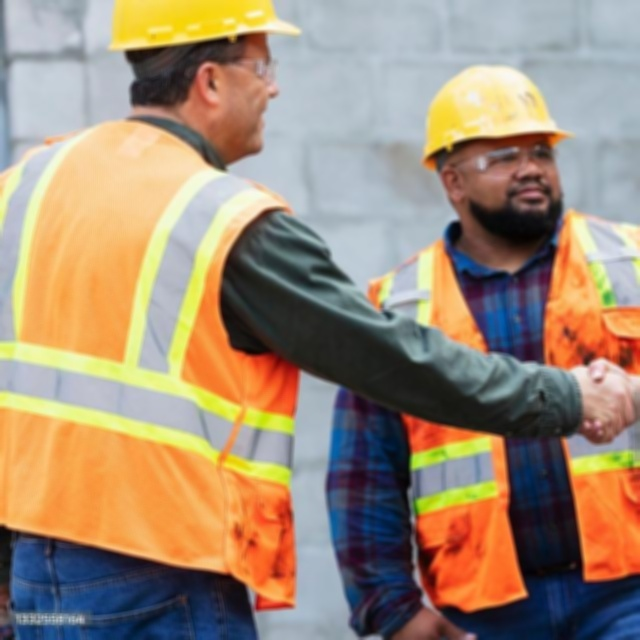Con_Casco: (423, 64, 575, 239)
Con_Chaleco: (0, 128, 306, 602), (379, 210, 640, 594)
